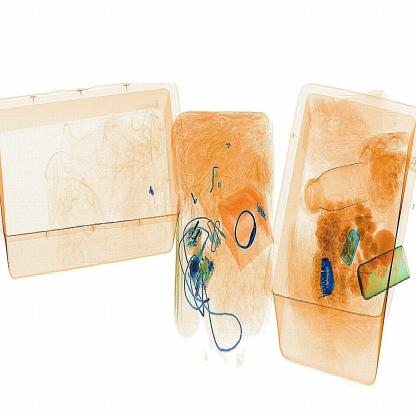scissors: (320, 258, 336, 297)
